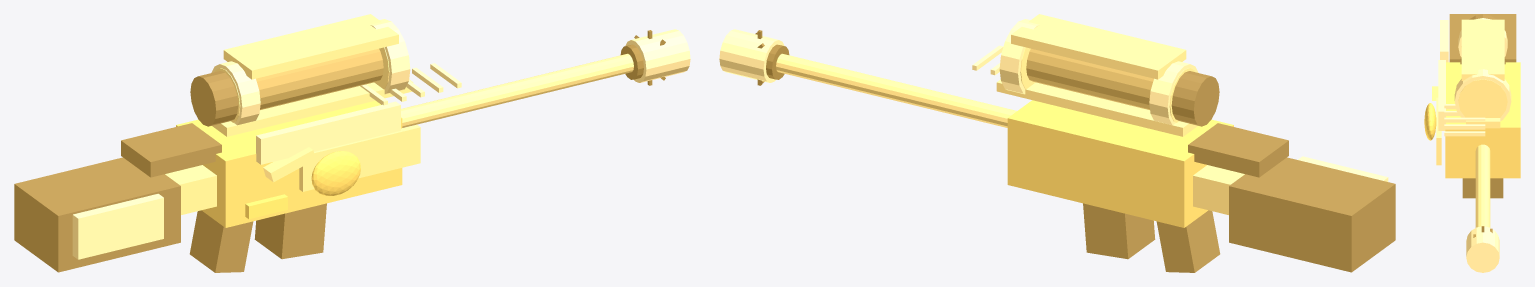
File: prime1-sniper.glb
The picture shows the model from 3 angles, left to right: view 1: azimuth 30°, elevation 25°; view 2: azimuth 150°, elevation 25°; view 3: azimuth 270°, elevation 25°; orthographic projection. The views are drawn at different scales.
Parts seen in each view (by area): view 1: BUTTSTOCK, RECEIVER, PRIME_SCOPE_SHIELD, LONG_BARREL, PRIME_RECEIVER_ARMOR, PRIME_STOCK_PLATE, SCOPE_TUBE, CHEEK_REST, PRIME_SIDE_PLATE, MAGAZINE, SCOPE_RAIL, GRIP (+9 smaller); view 2: RECEIVER, BUTTSTOCK, PRIME_SCOPE_SHIELD, LONG_BARREL, SCOPE_TUBE, CHEEK_REST, SCOPE_RAIL, MAGAZINE, GRIP, PRIME_MUZZLE_CROWN, SCOPE_EYEPIECE, ADJUSTABLE_STOCK (+4 smaller); view 3: RECEIVER, PRIME_SCOPE_SHIELD, SCOPE_FRONT_RING, PRIME_MUZZLE_CROWN, LONG_BARREL, BUTTSTOCK, PRIME_SCOPE_RING_FRONT, MAGAZINE, PRIME_RECEIVER_ARMOR, PRIME_ION_CORE, PRIME_STOCK_PLATE, PRIME_SIDE_PLATE (+8 smaller).
Part boxes in pixels (<box>): BUTTSTOCK: <box>14,157,180,272</box>; RECEIVER: <box>176,100,402,227</box>; PRIME_SCOPE_SHIELD: <box>223,14,398,79</box>; LONG_BARREL: <box>401,53,633,127</box>; PRIME_RECEIVER_ARMOR: <box>256,101,400,164</box>; PRIME_STOCK_PLATE: <box>72,193,163,259</box>; SCOPE_TUBE: <box>256,48,383,109</box>; CHEEK_REST: <box>121,123,221,177</box>; PRIME_SIDE_PLATE: <box>299,125,420,191</box>; MAGAZINE: <box>254,203,326,259</box>; SCOPE_RAIL: <box>212,79,413,136</box>; GRIP: <box>189,210,253,272</box>; RECEIVER: <box>1007,100,1233,227</box>; BUTTSTOCK: <box>1229,157,1395,272</box>; PRIME_SCOPE_SHIELD: <box>1011,14,1186,79</box>; LONG_BARREL: <box>776,53,1016,127</box>; SCOPE_TUBE: <box>1026,48,1153,109</box>; CHEEK_REST: <box>1188,123,1288,177</box>; SCOPE_RAIL: <box>996,79,1197,136</box>; MAGAZINE: <box>1083,203,1155,259</box>; GRIP: <box>1156,210,1220,272</box>; PRIME_MUZZLE_CROWN: <box>719,29,784,82</box>; SCOPE_EYEPIECE: <box>1171,71,1219,126</box>; ADJUSTABLE_STOCK: <box>1193,165,1244,214</box>; RECEIVER: <box>1445,62,1520,178</box>; PRIME_SCOPE_SHIELD: <box>1461,19,1504,80</box>; SCOPE_FRONT_RING: <box>1458,79,1507,117</box>; PRIME_MUZZLE_CROWN: <box>1466,226,1499,272</box>; LONG_BARREL: <box>1475,144,1490,227</box>; BUTTSTOCK: <box>1449,14,1516,62</box>; PRIME_SCOPE_RING_FRONT: <box>1454,69,1511,121</box>; MAGAZINE: <box>1462,178,1503,198</box>; PRIME_RECEIVER_ARMOR: <box>1438,60,1445,130</box>; PRIME_ION_CORE: <box>1424,103,1436,140</box>; PRIME_STOCK_PLATE: <box>1440,20,1448,62</box>; PRIME_SIDE_PLATE: <box>1436,97,1441,165</box>.
Bounding box in the file's own units: 2.62 × 0.7864 × 0.448.
